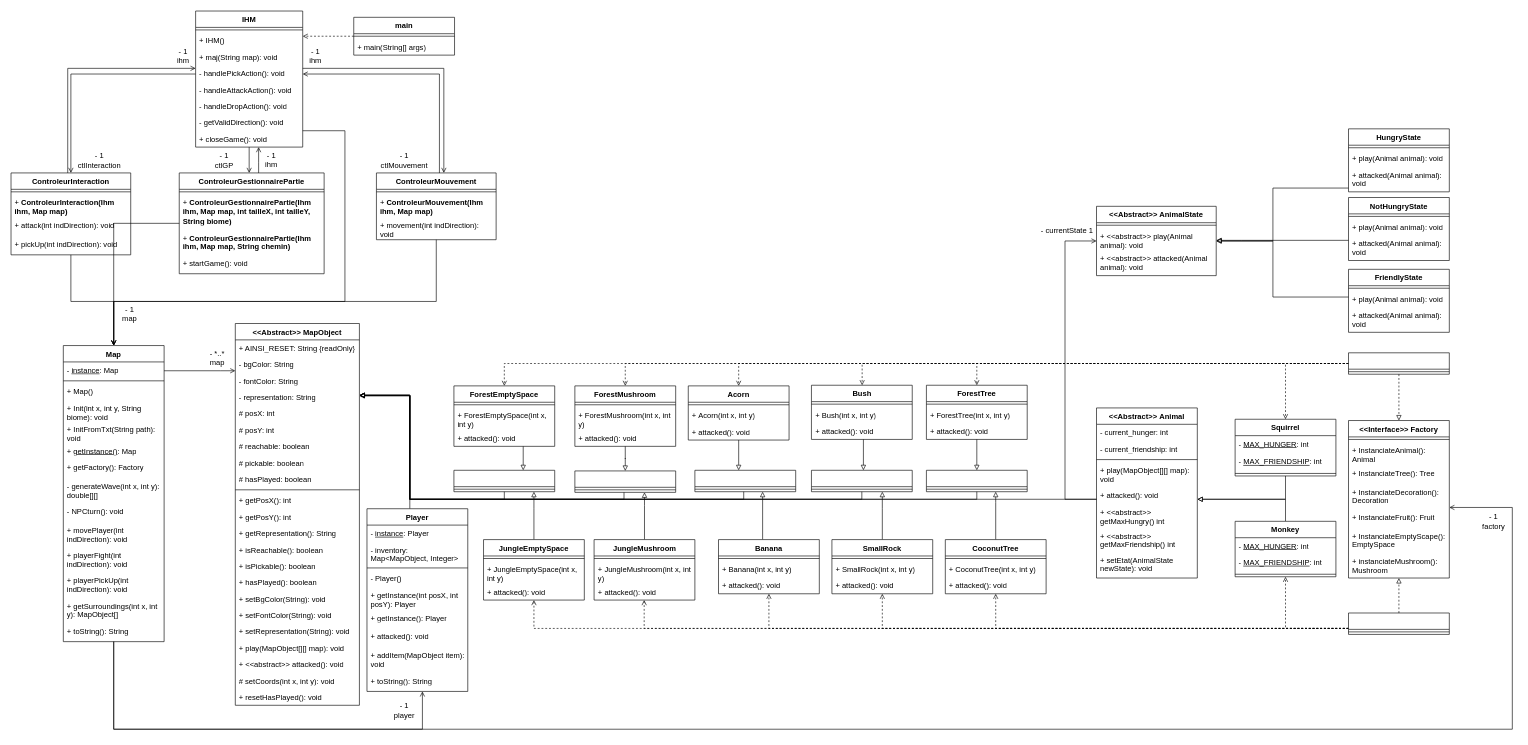
Some shapes in this 1528 by 745 pixel diagram are drawn without their labels. Each missing label, with the centre of its shape:
<<Abstract>> Decoration: (x=861, y=481)
<<Abstract>> EmptySpace: (x=504, y=481)
<<Abstract>> Fruit: (x=745, y=481)
<<Abstract>> Mushroom: (x=625, y=481)
<<Abstract>> Tree: (x=976, y=481)
ForerstFactory: (x=1398, y=363)
JungleFactory: (x=1398, y=623)
